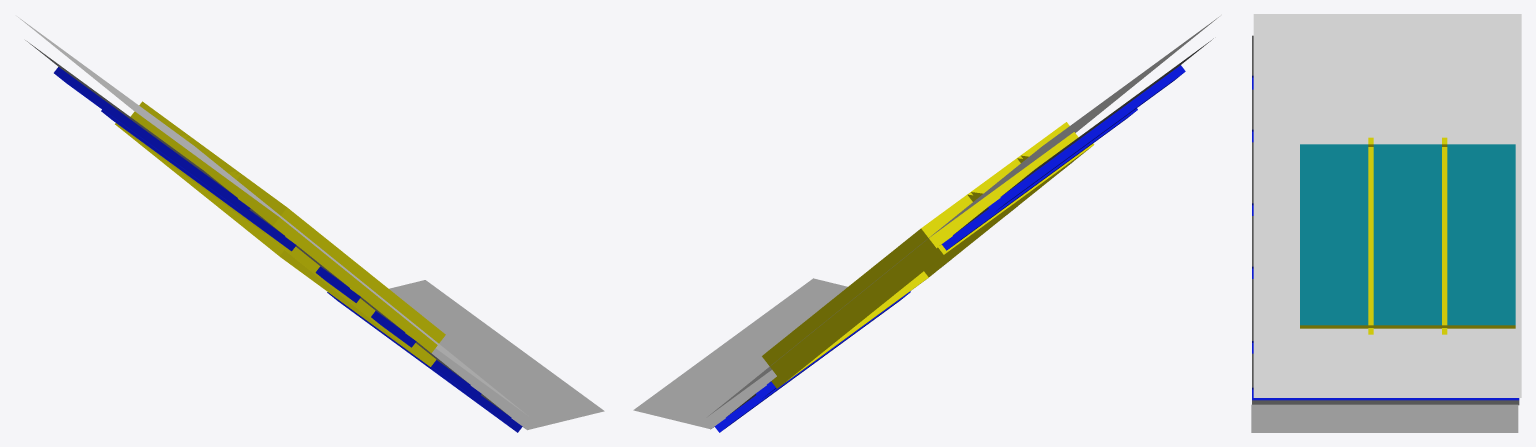
File: takcloser_for_substance.fbx
3 renders of one model, left to right at view 1: azimuth 30°, elevation 25°; view 2: azimuth 150°, elevation 25°; view 3: azimuth 270°, elevation 25°, orthographic. The views are drawn at different scales.
Parts seen in each view (by area): view 1: polySurface12, pPlane1; view 2: polySurface12, pPlane1; view 3: polySurface12, pPlane1.
Boxes of the visible parts, bbox=[...] form: polySurface12: bbox=[17, 16, 526, 432]; pPlane1: bbox=[389, 280, 604, 430]; polySurface12: bbox=[708, 16, 1219, 432]; pPlane1: bbox=[633, 278, 847, 429]; polySurface12: bbox=[1252, 14, 1521, 405]; pPlane1: bbox=[1251, 404, 1518, 432].
Size of the model in its own units: 526 by 449 by 405.
